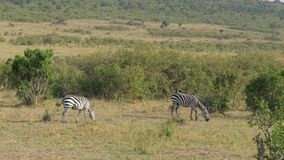zebra: (55, 94, 96, 124), (170, 93, 210, 121)
